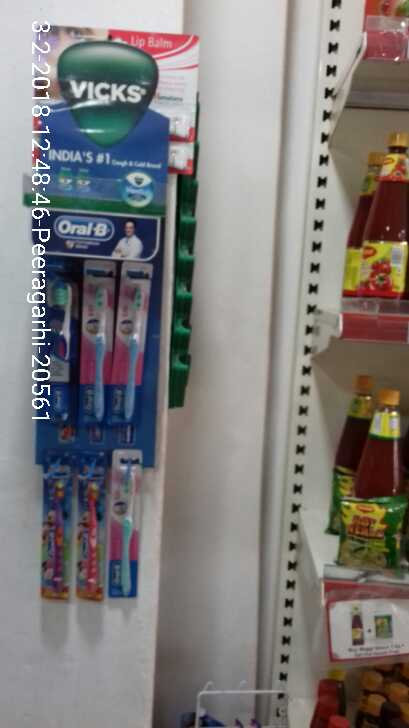oralb: (111, 260, 151, 422), (79, 261, 114, 429), (111, 451, 141, 598)
